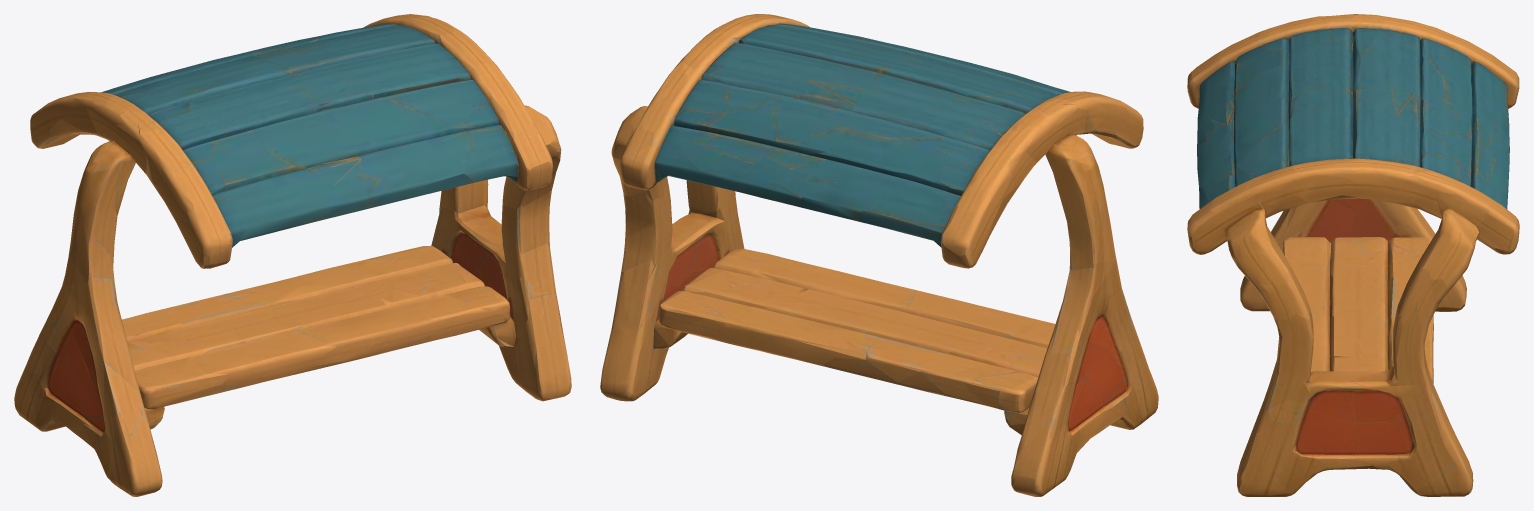
Rendered from shelterBench.glb.
3 renders of one model, left to right at view 1: azimuth 30°, elevation 25°; view 2: azimuth 150°, elevation 25°; view 3: azimuth 270°, elevation 25°, orthographic. The views are drawn at different scales.
Parts seen in each view (by area): view 1: Mesh_0; view 2: Mesh_0; view 3: Mesh_0.
Boxes of the visible parts, x1=… form: Mesh_0: x1=14, y1=14, x2=571, y2=496; Mesh_0: x1=600, y1=14, x2=1158, y2=496; Mesh_0: x1=1187, y1=14, x2=1519, y2=496.
Bounding box in the file's own units: 1.14 × 0.8231 × 0.8.
1 material, 1 textured.
